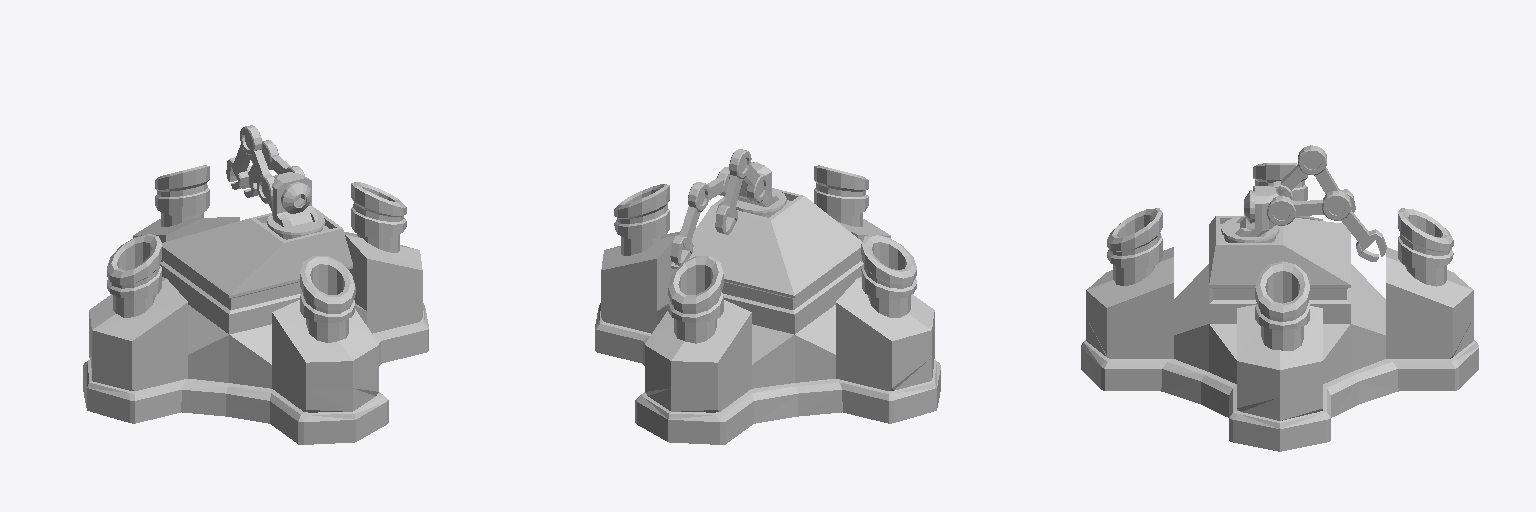
File: TurretShop.obj
The picture shows the model from 3 angles: view 1: azimuth 30°, elevation 25°; view 2: azimuth 150°, elevation 25°; view 3: azimuth 270°, elevation 25°; orthographic projection.
Size of the model in its own units: 18.29 by 11.84 by 18.69.